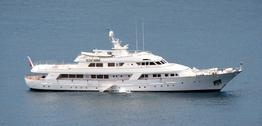yacht: (30, 31, 243, 92)
